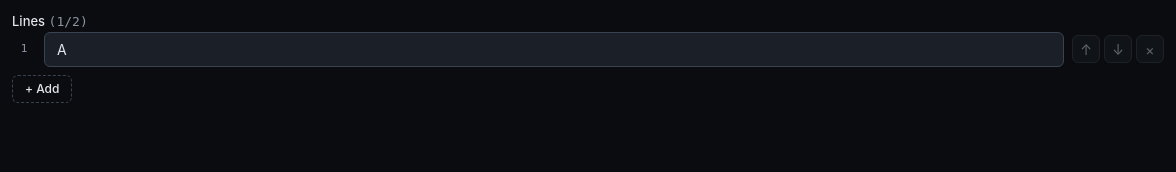
SchemaField shapes › array-of-string: add respects maxItems, remove respects minItems, reorder swaps values, rows are labeled 1-indexed
Check: the field named "Lines 1" holds "A", box [44,32,1064,66]
Check: the button named "Remove Lines 1" is disabled, box [1136,35,1164,63]
Click the button with aria-label "Add Lines row" at x=42, y=88, box [12,74,72,102]
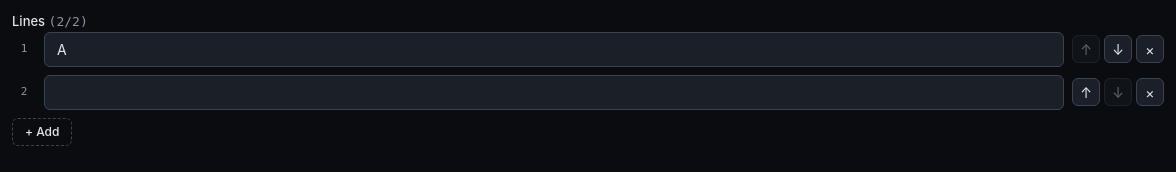
Type "B" into the field named "Lines 2" at x=554, y=92, box [44,74,1064,110]
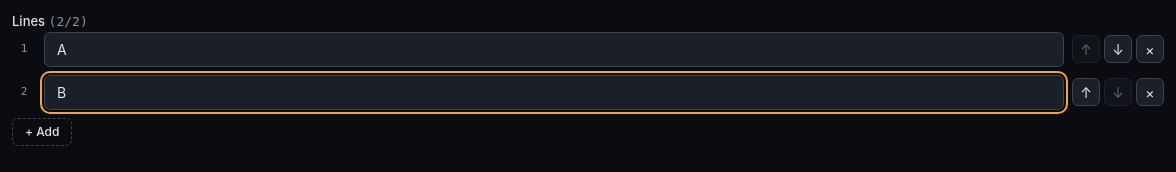
Check: the button with aria-label "Add Lines row" is disabled, box [12,118,72,146]
Click the button named "Move Lines 1 down" at x=1118, y=49, box [1104,35,1132,63]
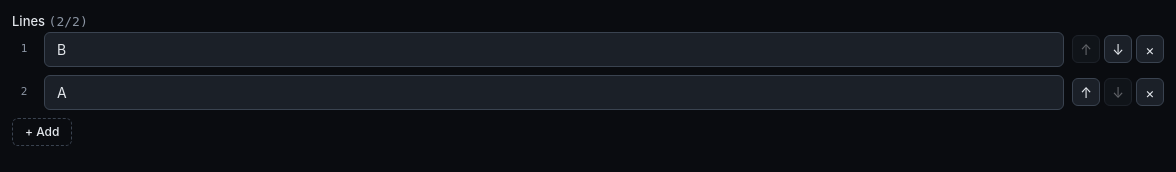
Check: the field named "Lines 2" holds "A", box [44,74,1064,110]
Click the button named "Remove Lines 2" at x=1150, y=92, box [1136,78,1164,106]
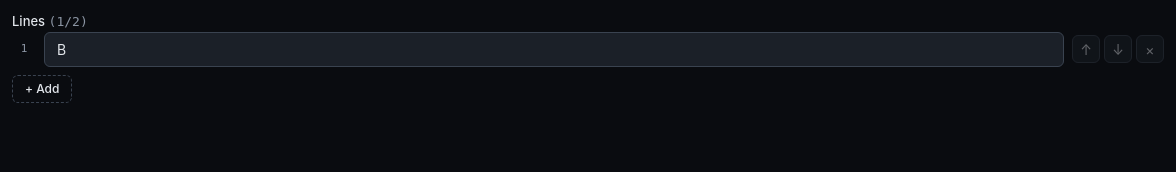
Check: the button named "Remove Lines 1" is disabled, box [1136,35,1164,63]
